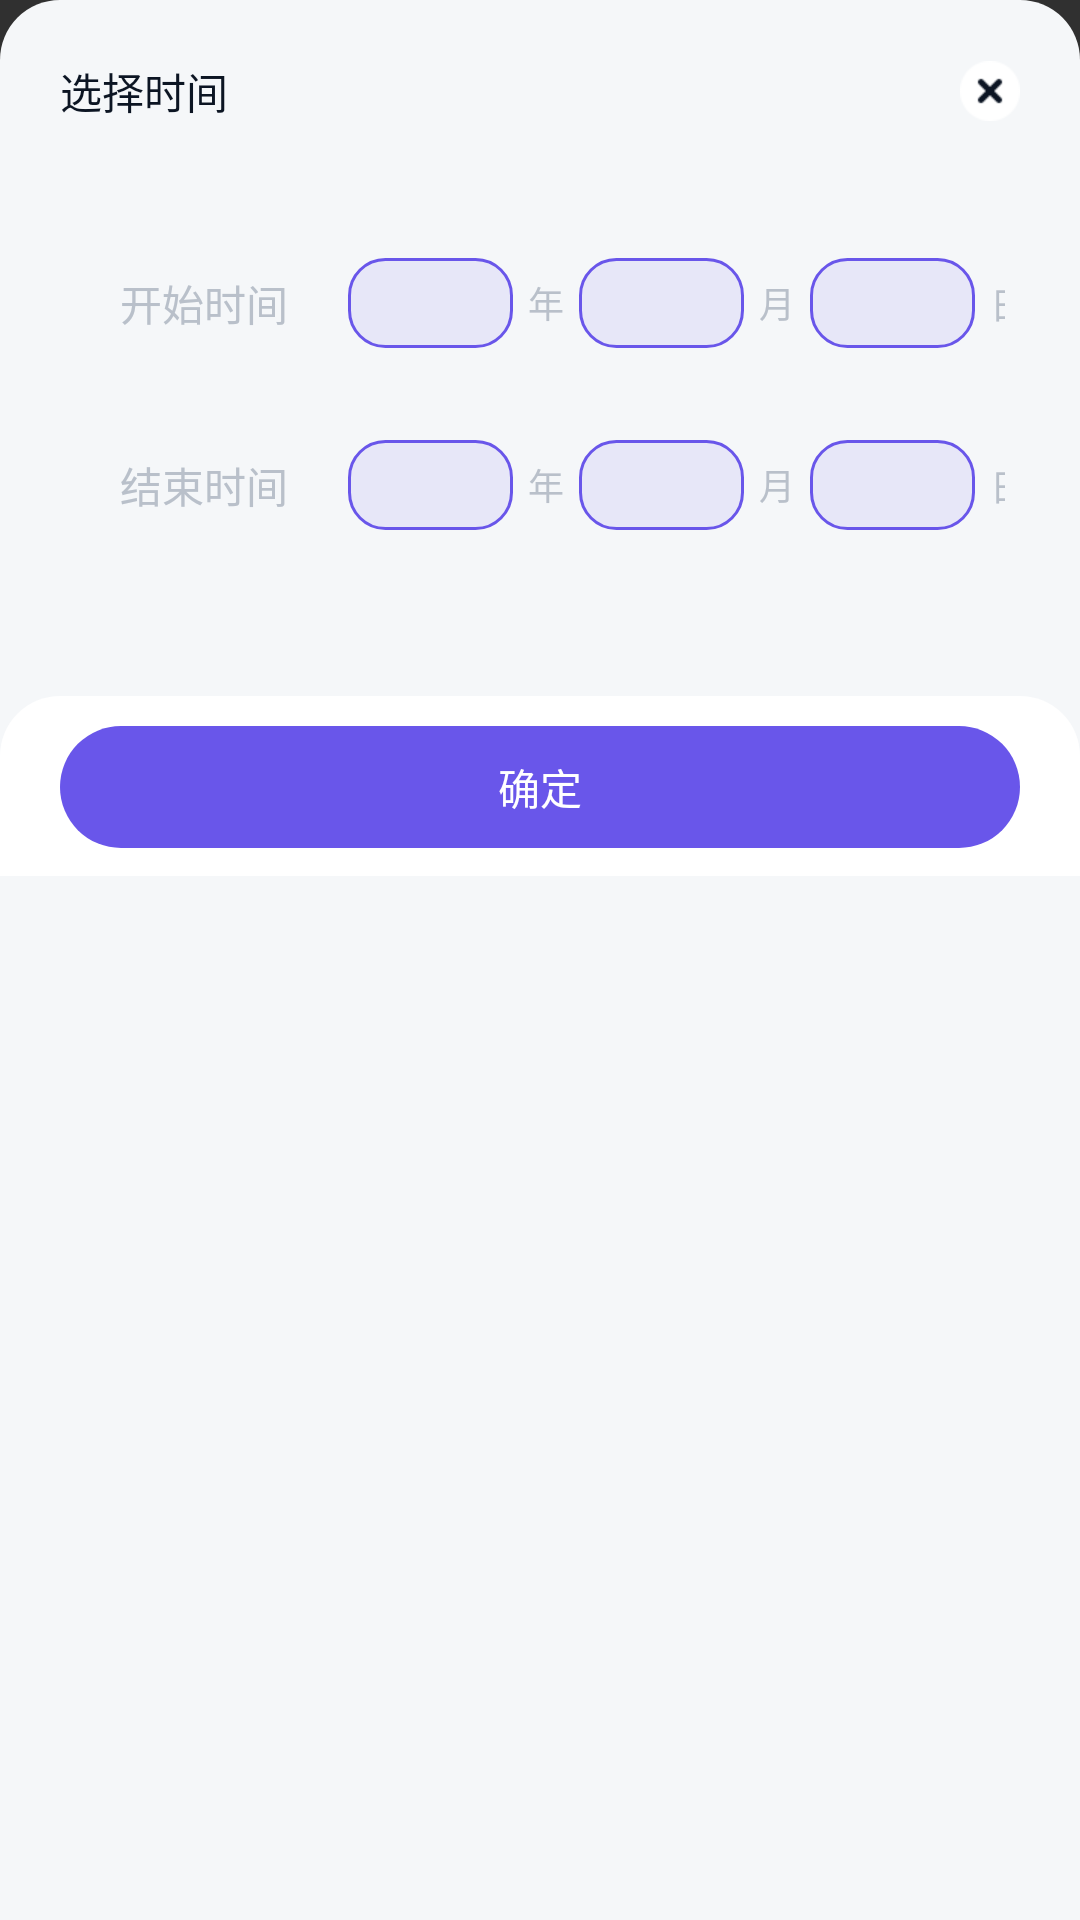

Where to tap for icons on this 1080 × 1920 app screen, as (x=x, y=y):
close: (x=990, y=91)
